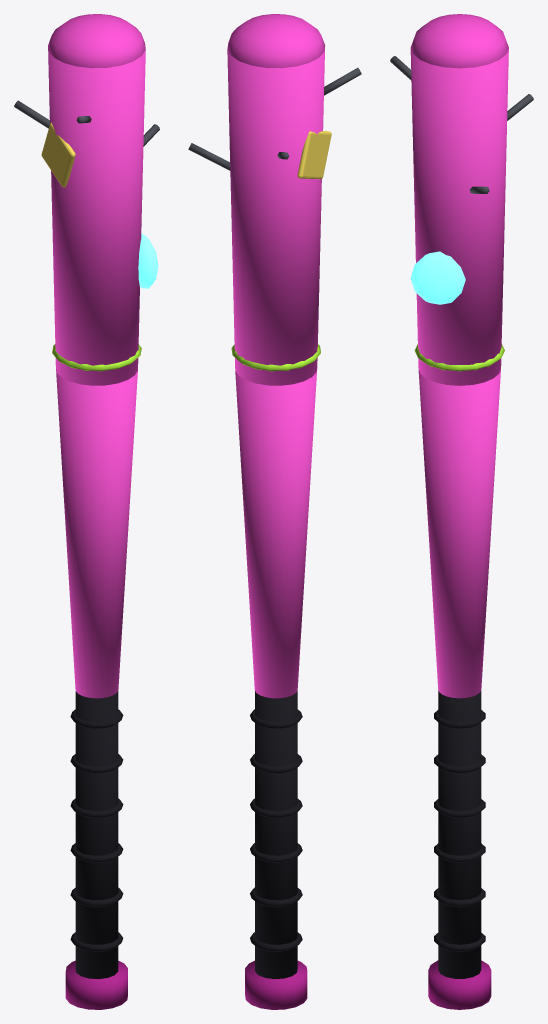
Rendered from Weapon_Bat.fbx.
3 views of the same model, side by side, from view 1: azimuth 30°, elevation 25°; view 2: azimuth 150°, elevation 25°; view 3: azimuth 270°, elevation 25° (orthographic).
Parts seen in each view (by area): view 1: Body; view 2: Body; view 3: Body.
Boxes of the visible parts, box(x1,y1,x2,y2) form: Body: box(14, 14, 159, 1009); Body: box(188, 14, 361, 1009); Body: box(390, 14, 533, 1009).
Bounding box in the file's own units: 0.1499 × 1.09 × 0.146.
